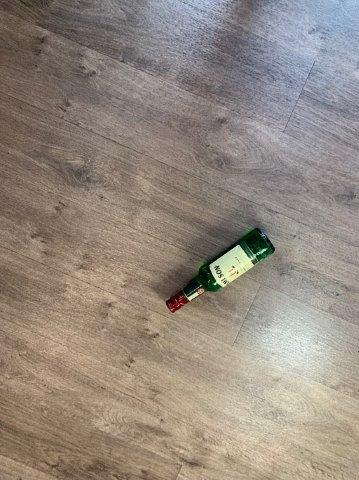botolkaca: (167, 228, 274, 314)
